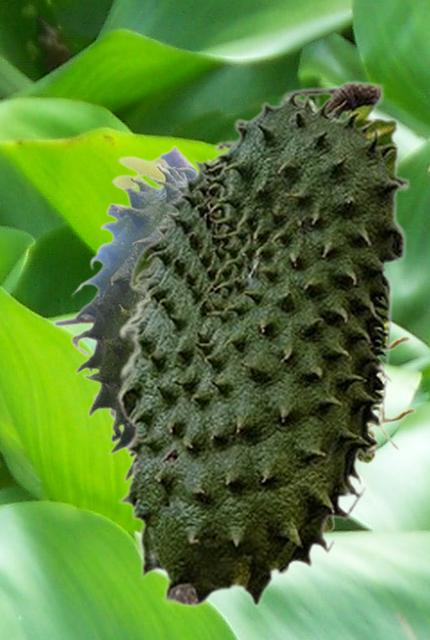guyabano: (115, 79, 409, 608), (52, 144, 411, 458)
